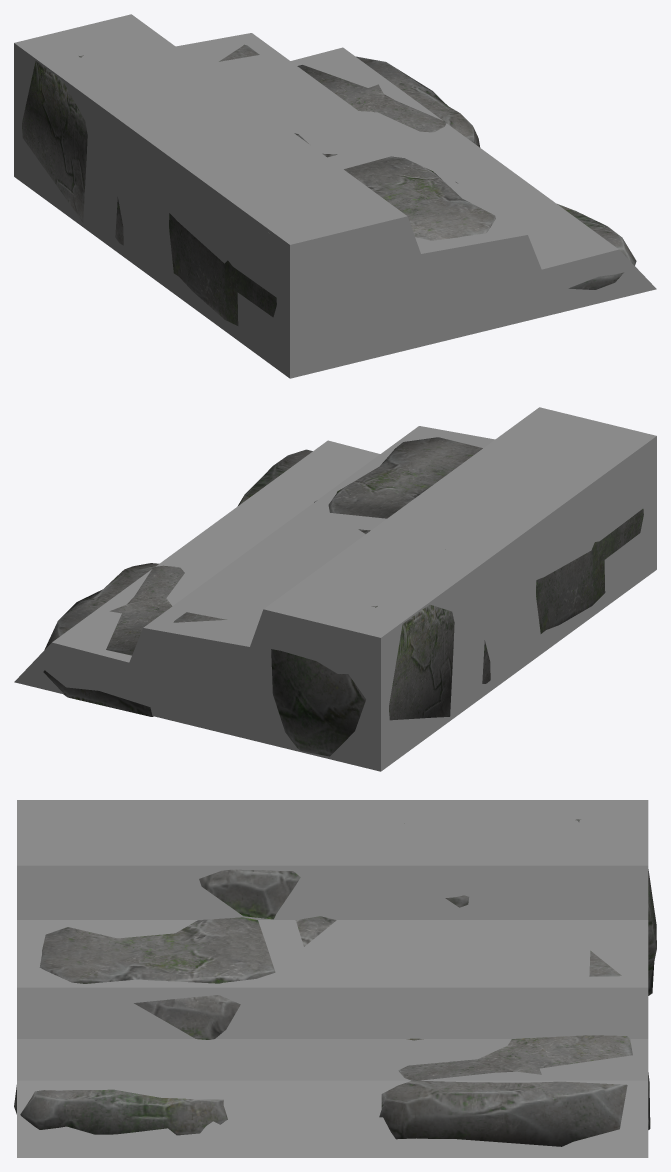
The model's file is Scene_Rock_ShaShiTi_2.fbx.
The picture shows the model from 3 angles, top to bottom: view 1: azimuth 30°, elevation 25°; view 2: azimuth 150°, elevation 25°; view 3: azimuth 270°, elevation 25°; orthographic projection. The views are drawn at different scales.
Parts seen in each view (by area): view 1: Scene_Rock_SuiShiTi_4_Xzm, Scene_Rock_SuiShiTi_4; view 2: Scene_Rock_SuiShiTi_4_Xzm, Scene_Rock_SuiShiTi_4; view 3: Scene_Rock_SuiShiTi_4_Xzm, Scene_Rock_SuiShiTi_4.
Part boxes in pixels (<box>): Scene_Rock_SuiShiTi_4_Xzm: <box>14,14,656,378</box>; Scene_Rock_SuiShiTi_4: <box>22,44,636,325</box>; Scene_Rock_SuiShiTi_4_Xzm: <box>14,407,656,771</box>; Scene_Rock_SuiShiTi_4: <box>43,437,643,756</box>; Scene_Rock_SuiShiTi_4_Xzm: <box>17,800,648,1157</box>; Scene_Rock_SuiShiTi_4: <box>14,819,656,1146</box>.
Size of the model in its own units: 276 by 99.22 by 364.
